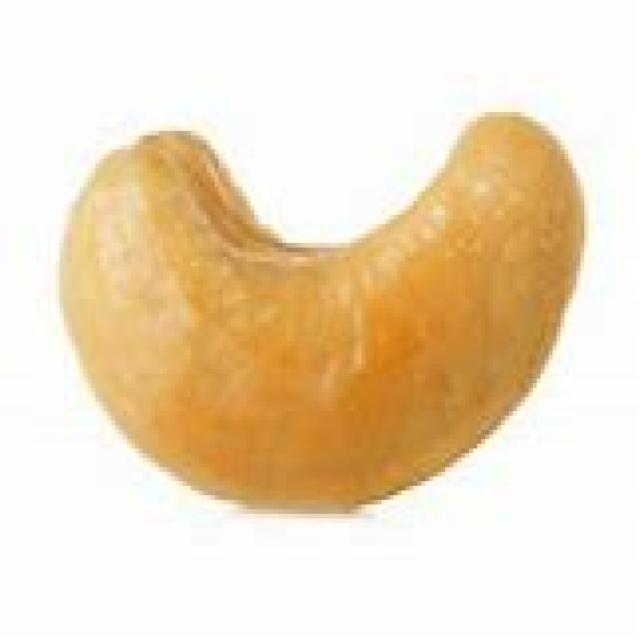Cashew: (36, 81, 575, 546)
